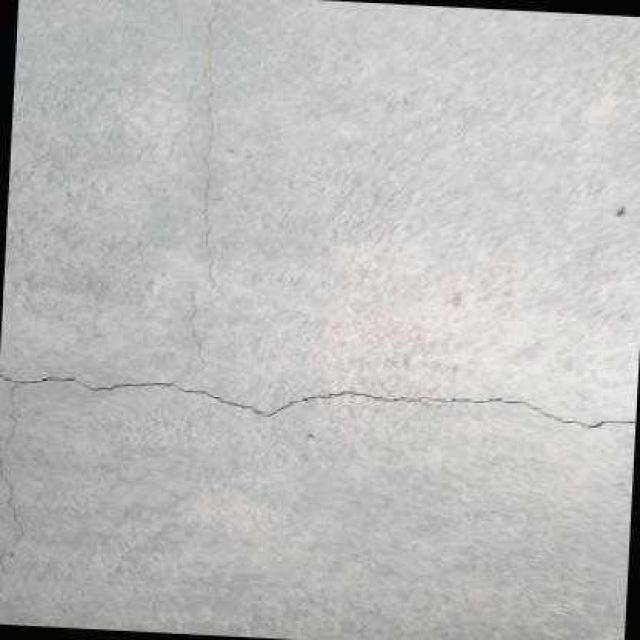D00: (0, 374, 635, 428)
